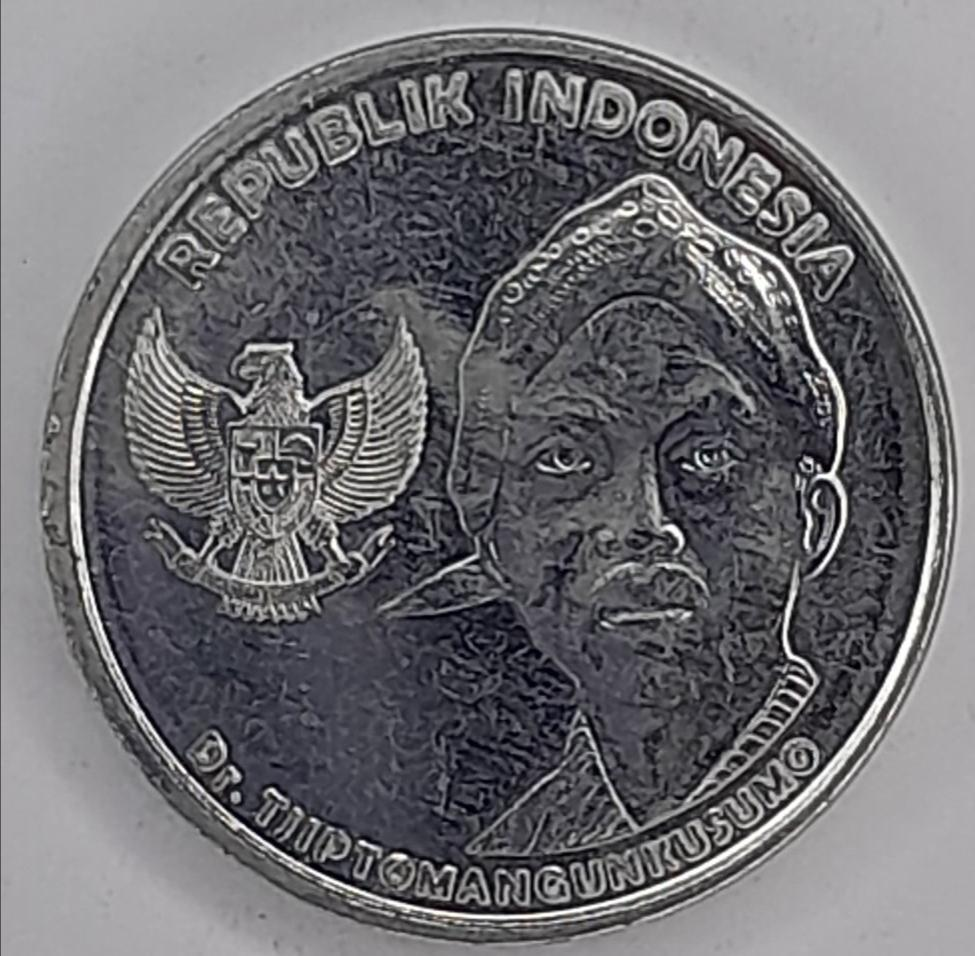coin_200_e2016: (0, 17, 975, 956)
